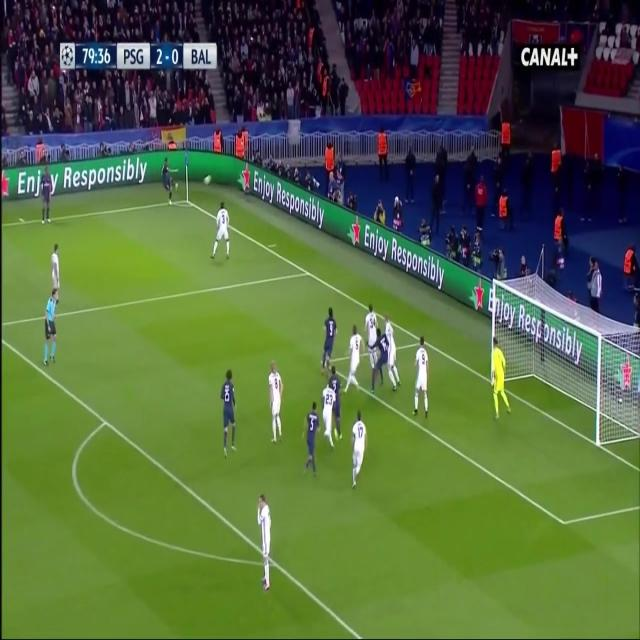Ball: (202, 170, 214, 188)
Goalkeeper: (490, 332, 511, 422)
Player: (218, 361, 241, 461), (381, 308, 403, 396), (255, 489, 273, 594), (413, 335, 433, 424), (349, 407, 369, 494), (342, 321, 364, 396), (267, 356, 285, 446), (302, 400, 322, 480), (317, 306, 339, 376), (210, 198, 232, 267), (368, 326, 388, 394), (330, 366, 346, 446), (321, 378, 336, 462), (365, 299, 380, 377), (160, 156, 182, 206), (39, 165, 54, 231), (50, 240, 64, 305)
Referee: (40, 283, 60, 372)
